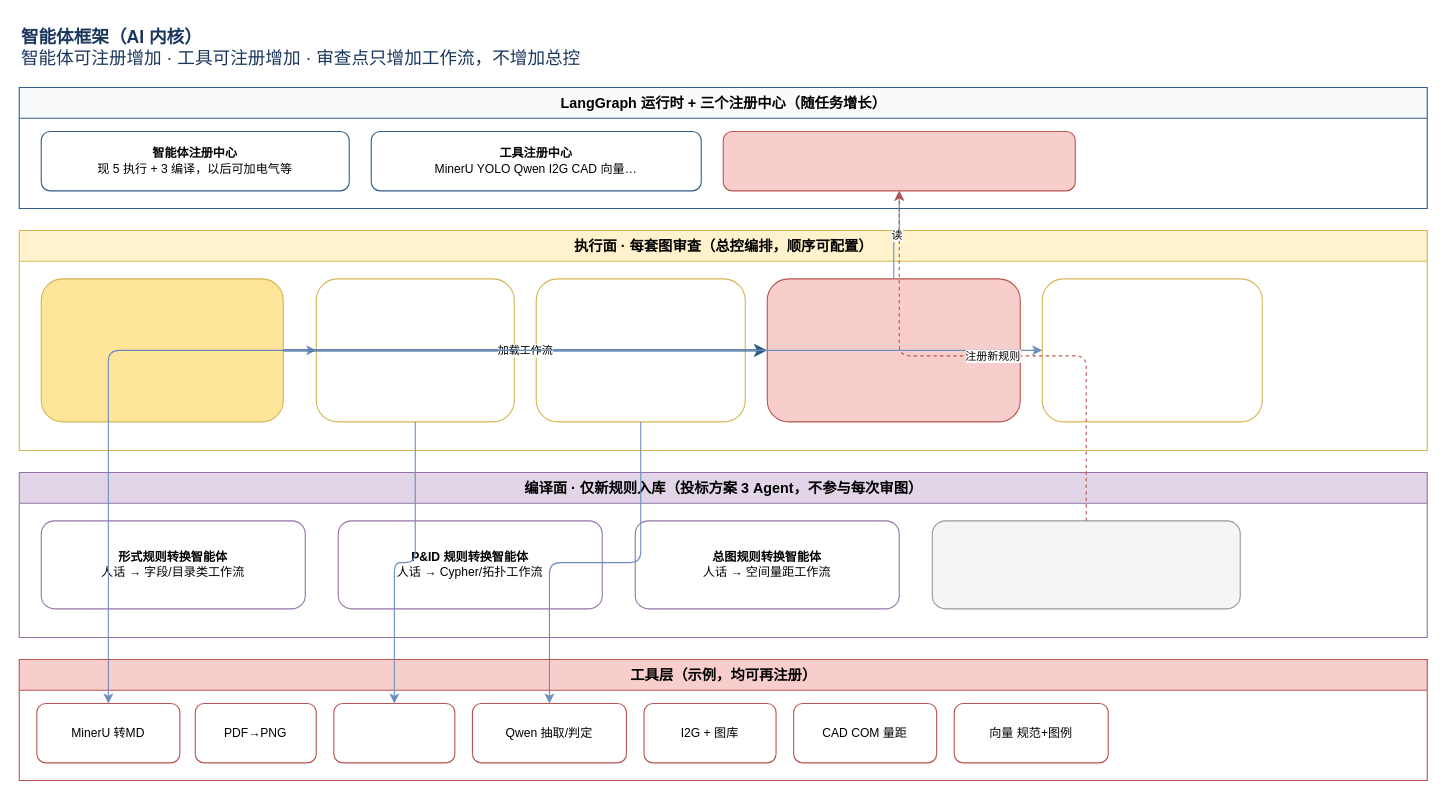
Image size: 1447x800. Some labels were removed from this diagram. The centre of each missing label's shape, as x and y in pixels:
YOLO 检测: the point at 394,732
人工确认 + 回归 → 写入工作流注册中心 → 此后由审查智能体执行: the point at 1085,564
信息提取智能体 MinerU / VLM / I2G / CAD 产出工件 JSON: the point at 640,350
图纸检测智能体 YOLO 图框版面 主路径必调 兼作 tool 兜底: the point at 414,350
审查智能体 加载已注册工作流并执行 一人一个点 = 交一份工作流: the point at 893,350
工作流注册中心 每个审查点一条 · 开发人员唯一入口: the point at 898,160
总控智能体 接任务 / 选工作流包 / 调四个执行体 / 回写后端: the point at 161,350
校验智能体 schema / 缺框兜底 置信度闸门 / Issue 规范: the point at 1151,350
